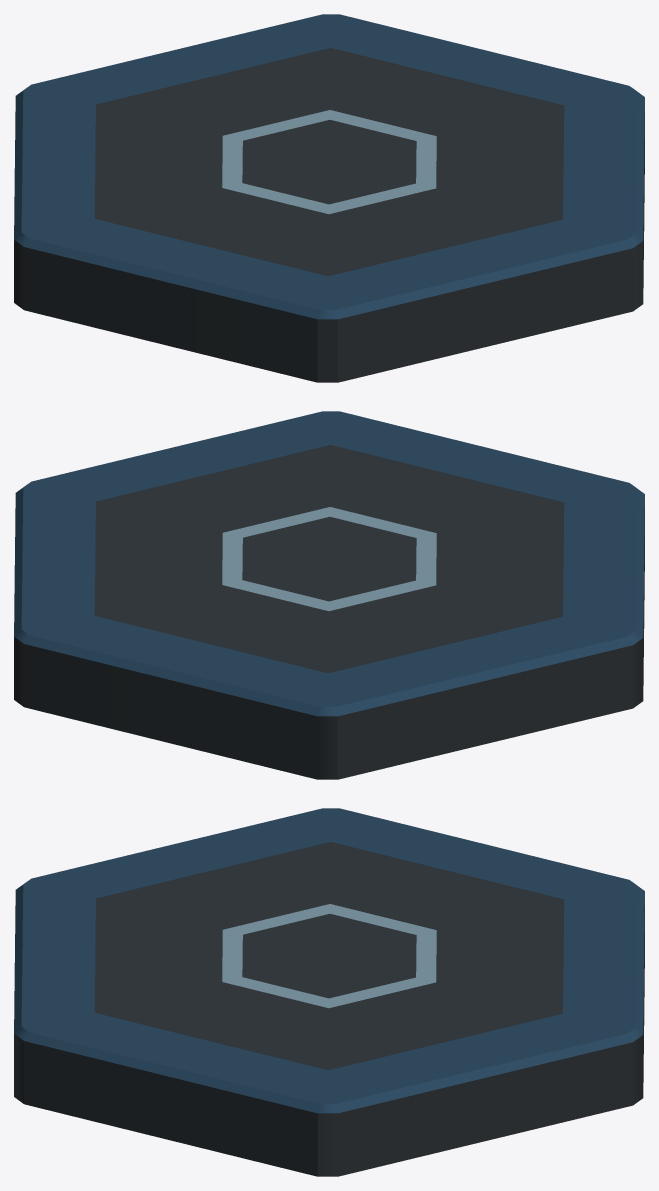
File: Aero_Ground_Hexagon_Art.fbx
3 renders of one model, top to bottom at view 1: azimuth 30°, elevation 25°; view 2: azimuth 150°, elevation 25°; view 3: azimuth 270°, elevation 25°, orthographic.
Parts seen in each view (by area): view 1: Aero_Ground_Hexagon_Art; view 2: Aero_Ground_Hexagon_Art; view 3: Aero_Ground_Hexagon_Art.
Boxes of the visible parts, x1,y1,x2,y2 form: Aero_Ground_Hexagon_Art: (14, 14, 644, 382); Aero_Ground_Hexagon_Art: (14, 411, 644, 779); Aero_Ground_Hexagon_Art: (14, 808, 644, 1176).
Size of the model in its own units: 824 by 88.44 by 727.
